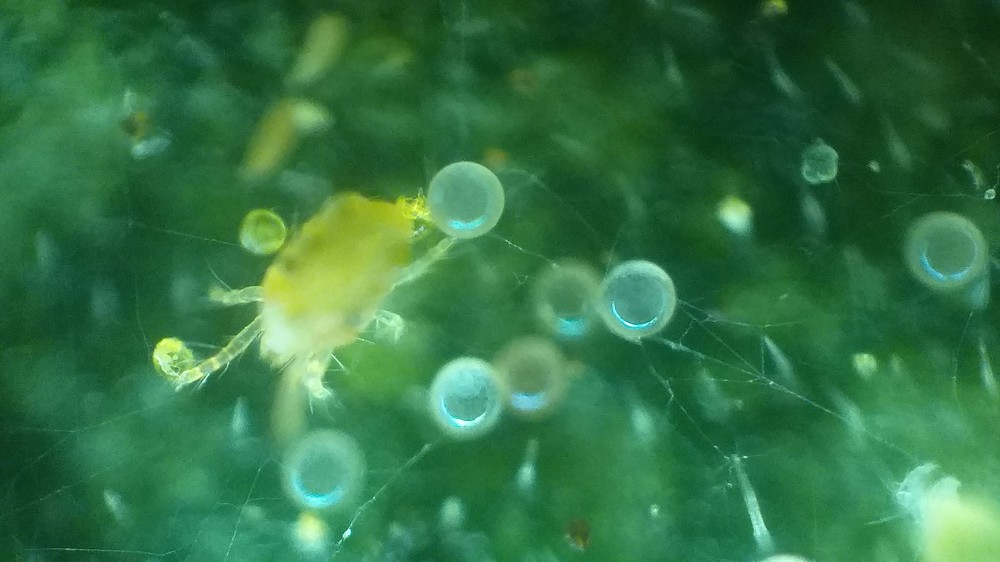Aracnido Rojo: (149, 187, 487, 426)
